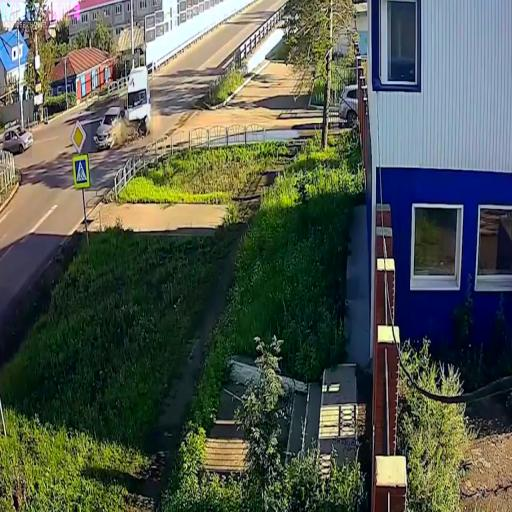小汽车: (4, 121, 32, 158)
小汽车撞小汽车: (91, 70, 153, 150)
